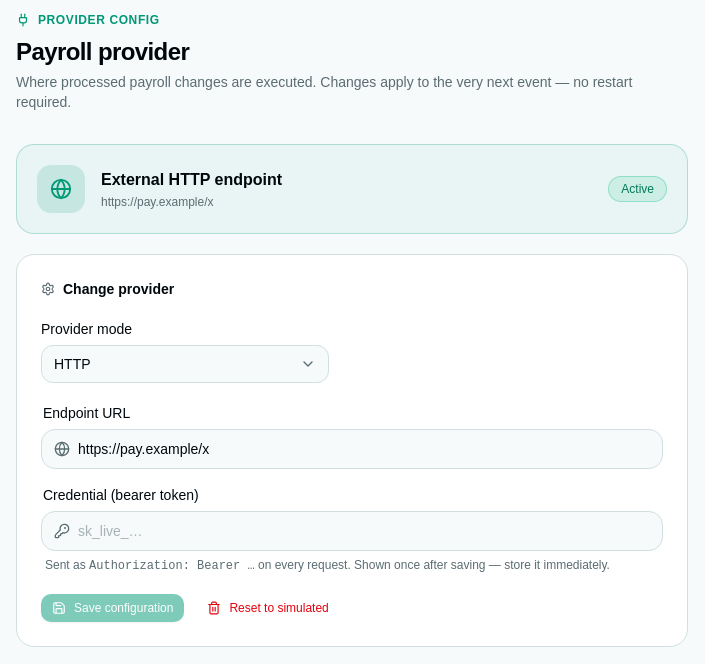
ProviderConfigView › delete returns to the simulated default with a confirmation of the card state
This screenshot has width=705, height=664.
Click the button with test id "provider-delete": (268, 608) [196, 594, 340, 622]
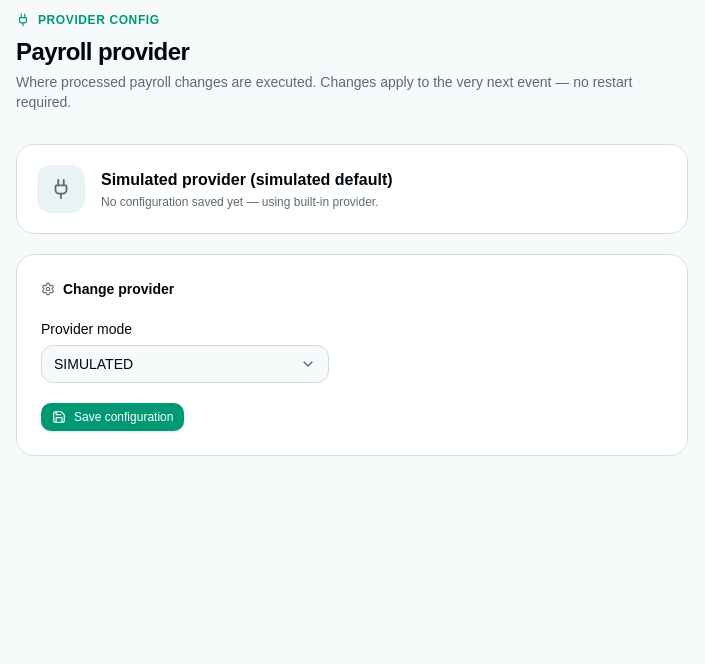
expect the element with test id "provider-current" shows "Simulated": met, box [101, 171, 393, 188]
